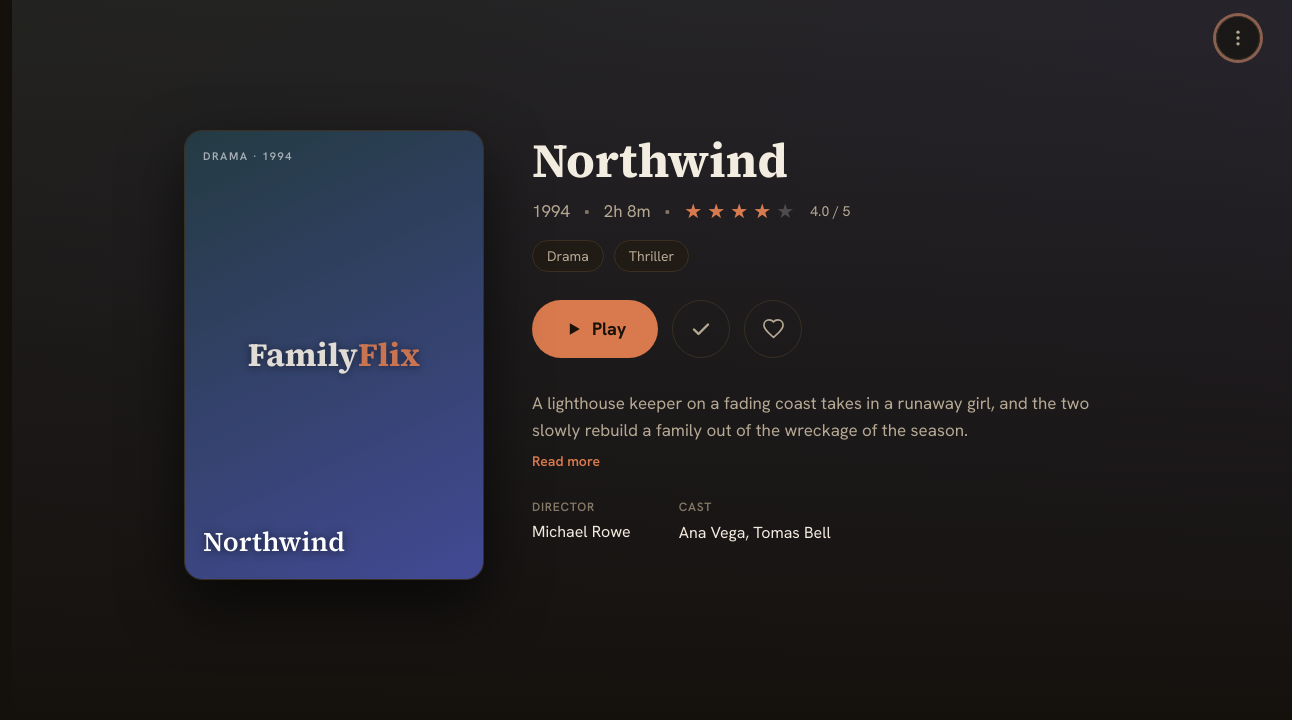
Test case: MovieDetail — the edit menu › sends Edit details to the add screen carrying this movie
Click the button named "more options": (1238, 38) [1216, 16, 1260, 60]
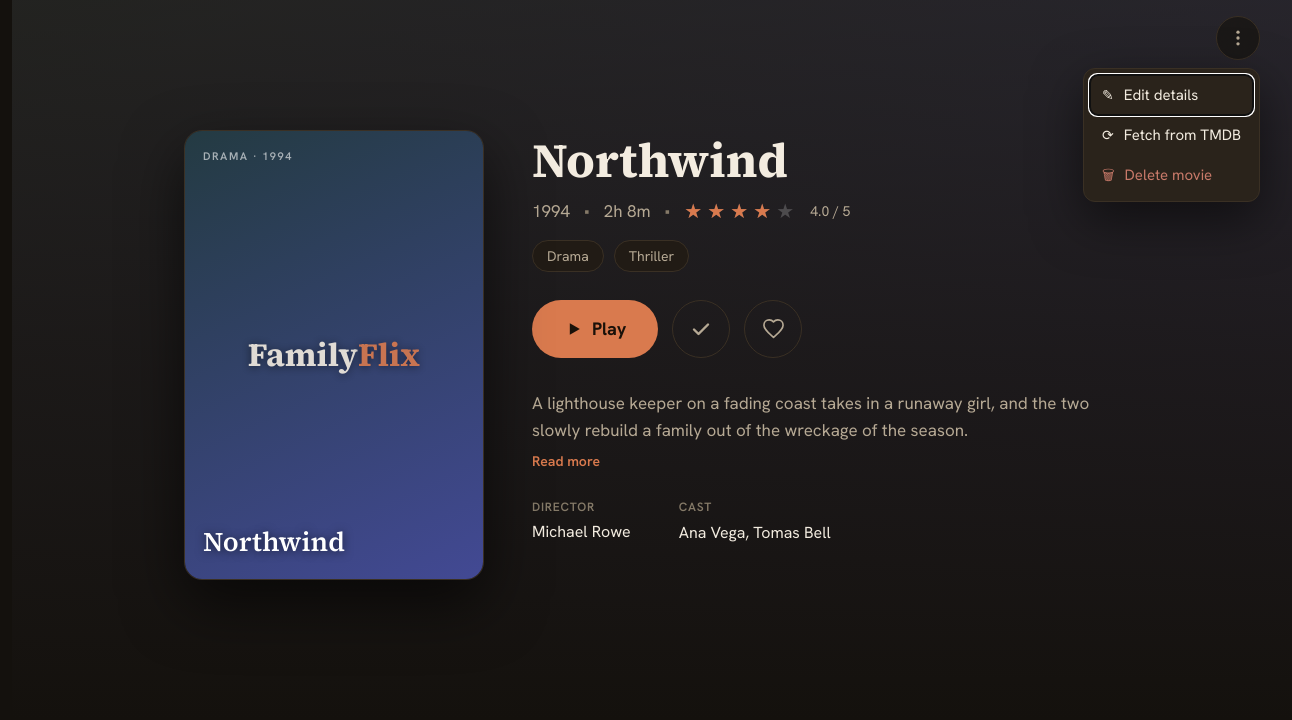
Click the menu item "✎ Edit details": (1172, 95) [1090, 75, 1253, 115]
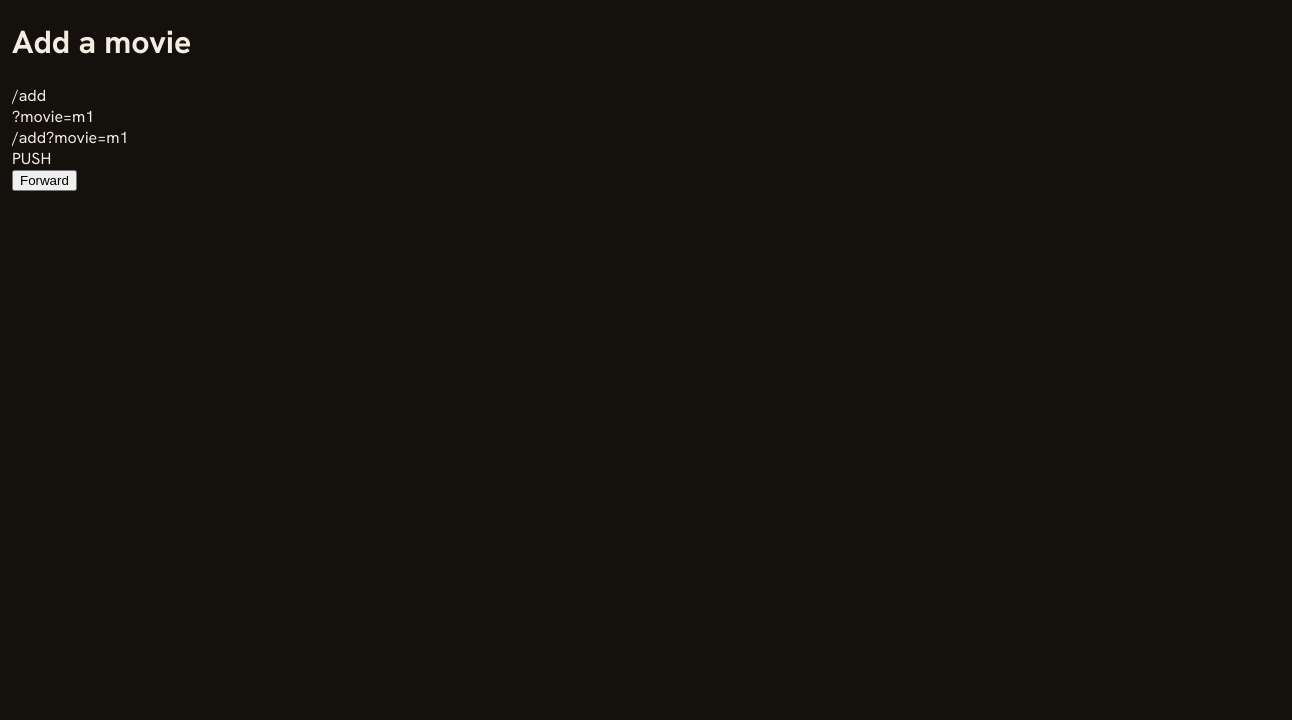
Expected: the text with test id "pathname" reads "/add", [12, 85, 46, 106]
Expected: the text with test id "search" reads "?movie=m1", [12, 106, 94, 127]
